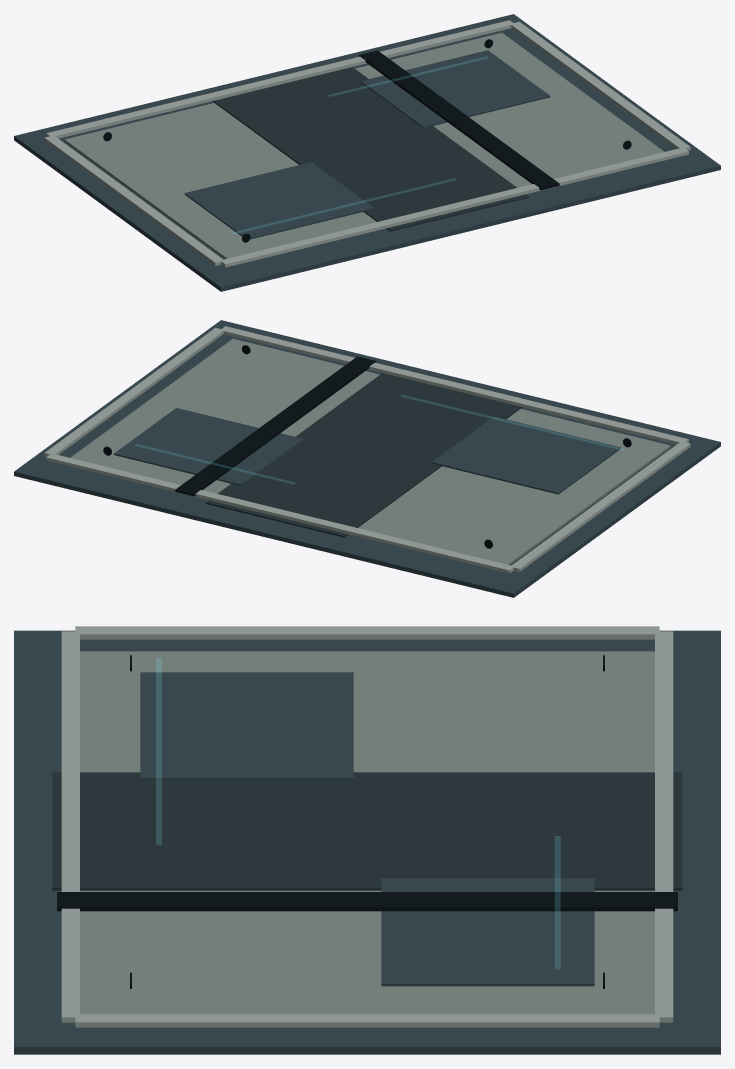
The model's file is hp_room_floor_tile_maintenance.glb.
The picture shows the model from 3 angles, top to bottom: view 1: azimuth 30°, elevation 25°; view 2: azimuth 150°, elevation 25°; view 3: azimuth 270°, elevation 25°; orthographic projection. The views are drawn at different scales.
Visible parts, largest first — view 1: maintenance_floor_large_grey_plate, maintenance_floor_slab_base, maintenance_floor_center_worn_path, maintenance_floor_inner_panel_a, maintenance_floor_inner_panel_b, maintenance_floor_front_raised_border, maintenance_floor_back_raised_border, maintenance_floor_dark_cable_trench, maintenance_floor_left_raised_border, maintenance_floor_right_raised_border; view 2: maintenance_floor_large_grey_plate, maintenance_floor_slab_base, maintenance_floor_center_worn_path, maintenance_floor_inner_panel_a, maintenance_floor_inner_panel_b, maintenance_floor_back_raised_border, maintenance_floor_front_raised_border, maintenance_floor_dark_cable_trench, maintenance_floor_left_raised_border, maintenance_floor_right_raised_border; view 3: maintenance_floor_large_grey_plate, maintenance_floor_center_worn_path, maintenance_floor_slab_base, maintenance_floor_inner_panel_a, maintenance_floor_inner_panel_b, maintenance_floor_dark_cable_trench, maintenance_floor_right_raised_border, maintenance_floor_left_raised_border, maintenance_floor_front_raised_border, maintenance_floor_back_raised_border, maintenance_floor_cyan_line_a.
Boxes of the visible parts, bbox=[...] form: maintenance_floor_large_grey_plate: bbox=[64, 32, 664, 258]; maintenance_floor_slab_base: bbox=[14, 14, 720, 291]; maintenance_floor_center_worn_path: bbox=[212, 67, 529, 231]; maintenance_floor_inner_panel_a: bbox=[184, 162, 373, 239]; maintenance_floor_inner_panel_b: bbox=[361, 50, 550, 127]; maintenance_floor_front_raised_border: bbox=[220, 147, 688, 267]; maintenance_floor_back_raised_border: bbox=[46, 20, 514, 138]; maintenance_floor_dark_cable_trench: bbox=[359, 50, 559, 190]; maintenance_floor_left_raised_border: bbox=[44, 135, 222, 265]; maintenance_floor_right_raised_border: bbox=[511, 21, 690, 150]; maintenance_floor_large_grey_plate: bbox=[70, 338, 670, 564]; maintenance_floor_slab_base: bbox=[14, 320, 720, 597]; maintenance_floor_center_worn_path: bbox=[205, 373, 522, 537]; maintenance_floor_inner_panel_a: bbox=[431, 416, 620, 494]; maintenance_floor_inner_panel_b: bbox=[114, 408, 303, 485]; maintenance_floor_back_raised_border: bbox=[46, 453, 514, 573]; maintenance_floor_front_raised_border: bbox=[220, 326, 688, 444]; maintenance_floor_dark_cable_trench: bbox=[175, 356, 375, 496]; maintenance_floor_left_raised_border: bbox=[512, 441, 690, 571]; maintenance_floor_right_raised_border: bbox=[44, 327, 223, 456]; maintenance_floor_large_grey_plate: bbox=[80, 651, 654, 1014]; maintenance_floor_center_worn_path: bbox=[52, 772, 682, 890]; maintenance_floor_slab_base: bbox=[14, 630, 720, 1054]; maintenance_floor_inner_panel_a: bbox=[140, 672, 353, 780]; maintenance_floor_inner_panel_b: bbox=[381, 878, 594, 986]; maintenance_floor_dark_cable_trench: bbox=[57, 892, 677, 911]; maintenance_floor_right_raised_border: bbox=[75, 1014, 659, 1027]; maintenance_floor_left_raised_border: bbox=[75, 626, 659, 639]; maintenance_floor_front_raised_border: bbox=[61, 631, 79, 1022]; maintenance_floor_back_raised_border: bbox=[655, 631, 673, 1022]; maintenance_floor_cyan_line_a: bbox=[156, 658, 161, 844].
Size of the model in its own units: 4.25 by 0.1505 by 3.05.
